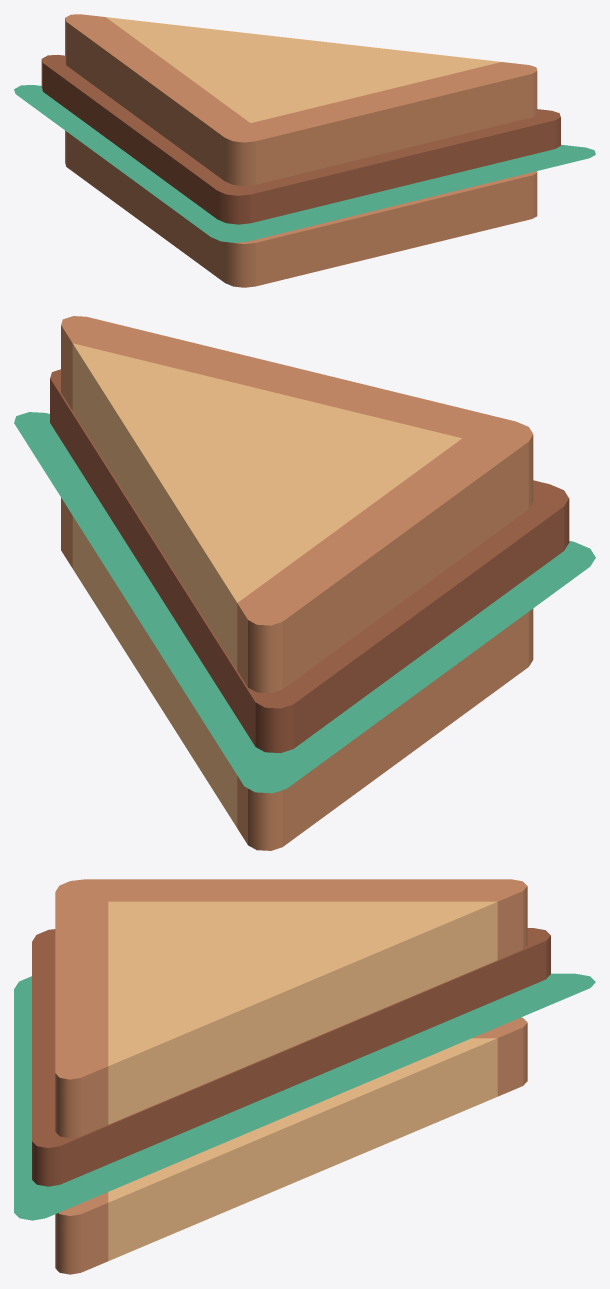
Rendered from sandwich.dae.
3 renders of one model, top to bottom at view 1: azimuth 30°, elevation 25°; view 2: azimuth 150°, elevation 25°; view 3: azimuth 270°, elevation 25°, orthographic. The views are drawn at different scales.
Visible parts, largest first — view 1: sandwich, meat, lettuce; view 2: sandwich, meat, lettuce; view 3: sandwich, meat, lettuce.
Boxes of the visible parts, left/top/right/bottom form: sandwich: left=65, top=14, right=537, bottom=287; meat: left=41, top=55, right=560, bottom=224; lettuce: left=14, top=85, right=595, bottom=242; sandwich: left=61, top=316, right=533, bottom=850; meat: left=50, top=369, right=569, bottom=753; lettuce: left=14, top=412, right=595, bottom=793; sandwich: left=55, top=879, right=527, bottom=1274; meat: left=32, top=928, right=550, bottom=1186; lettuce: left=14, top=973, right=595, bottom=1220.
Bounding box in the file's own units: 0.4339 × 0.1598 × 0.4323.
